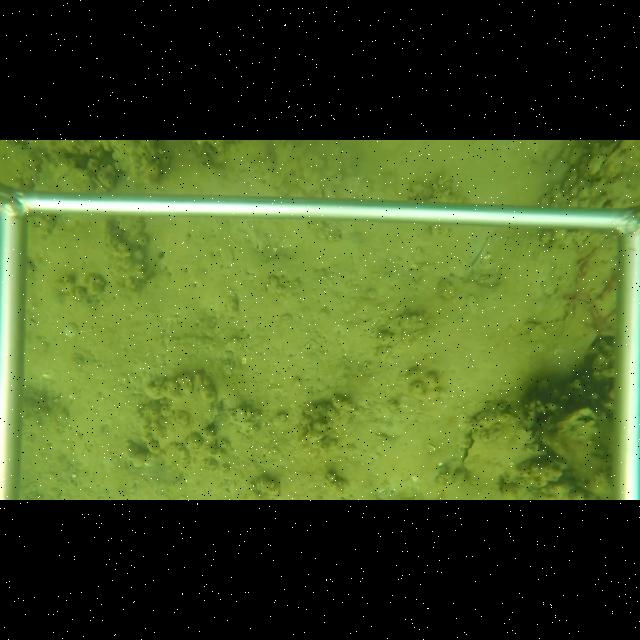Oyster-Closed: (455, 407, 550, 492), (136, 371, 223, 457)
Oyster-Open: (552, 407, 608, 438)
